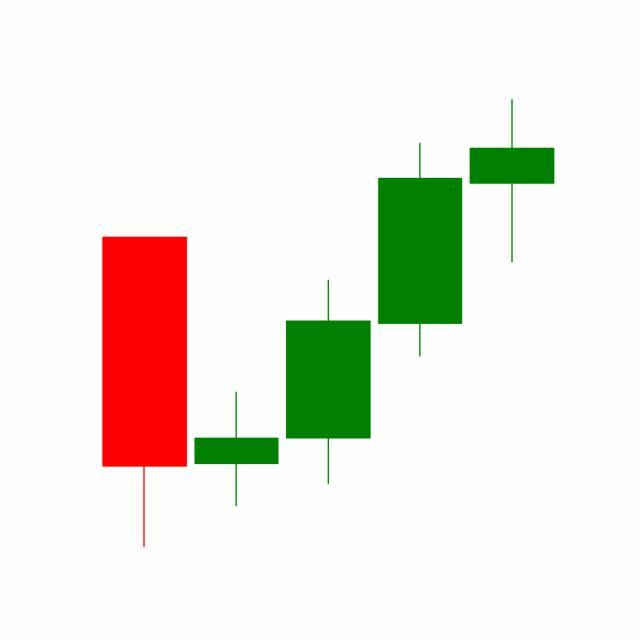Advance Block: (280, 99, 555, 489)
